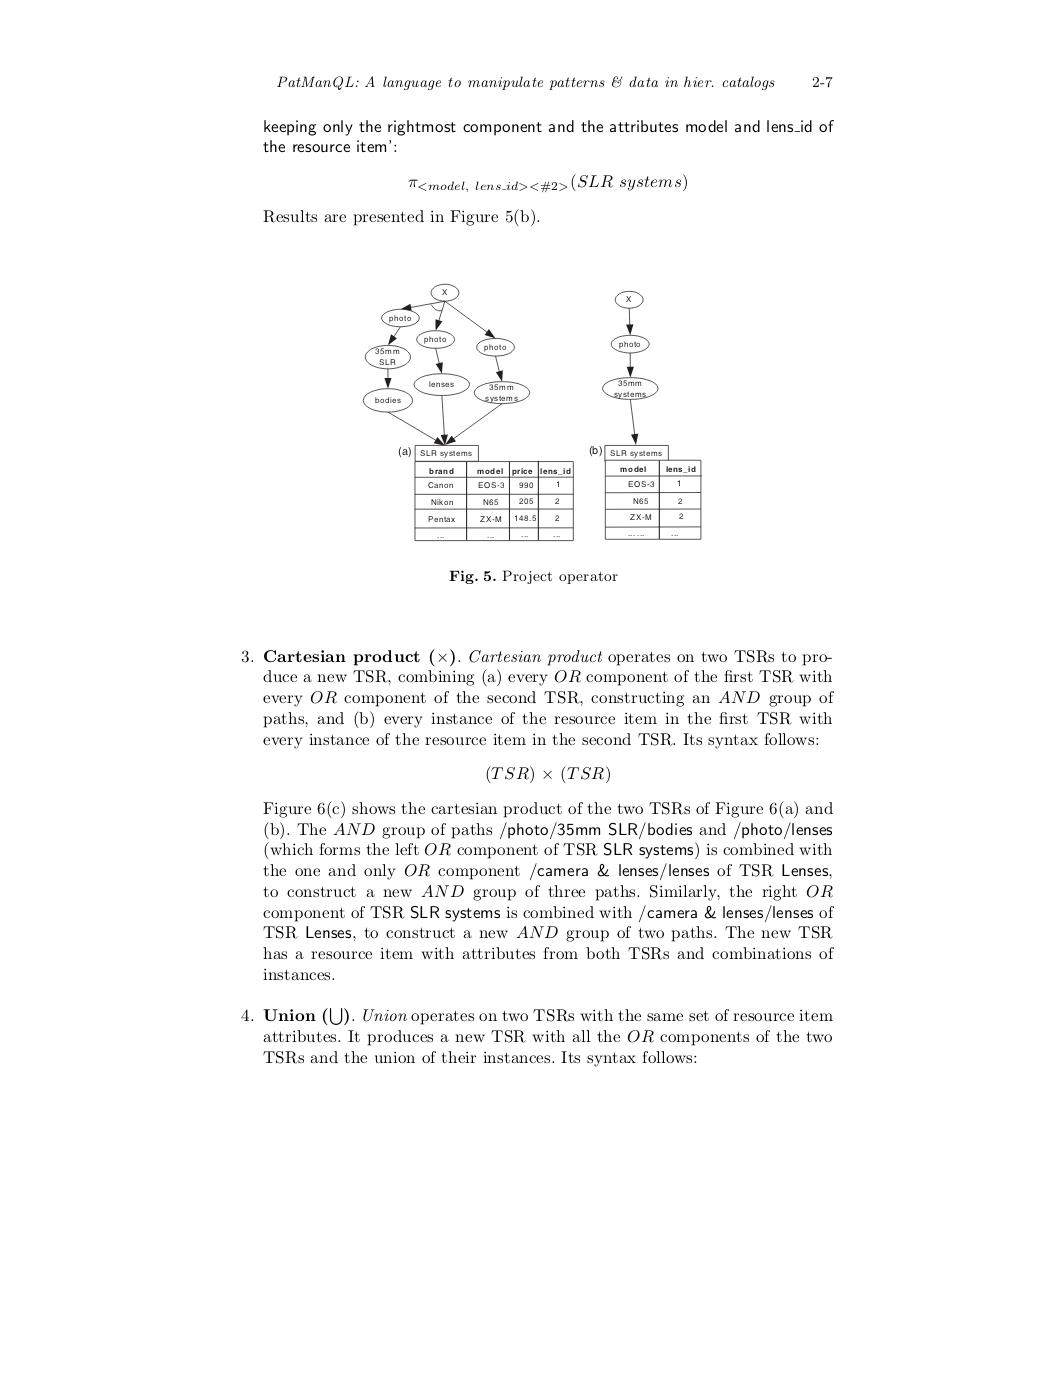figure: (362, 282, 573, 542), (588, 289, 701, 541)
